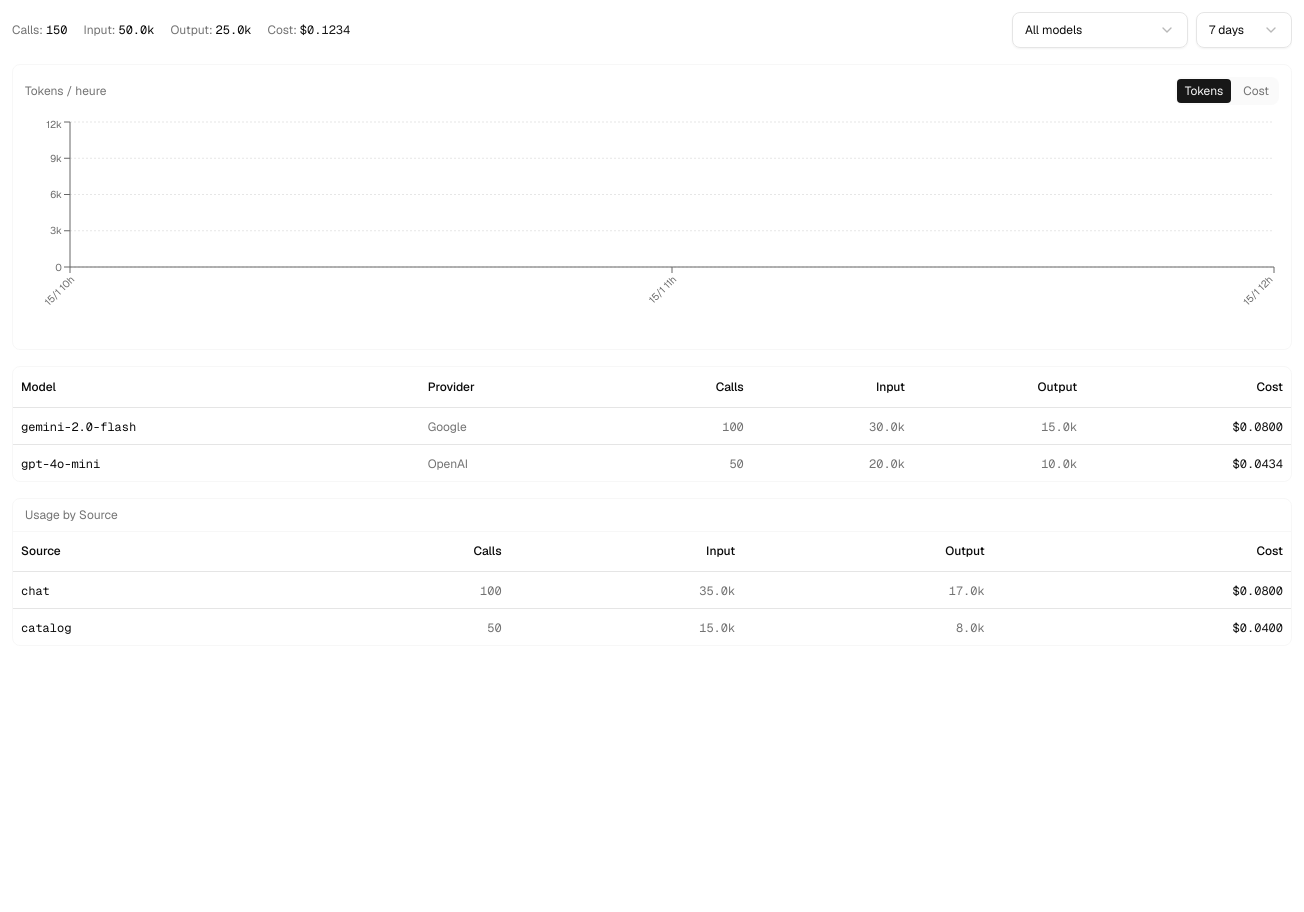
UsageTab › Chart metric toggle › should switch back to tokens view when clicking Tokens button
// Switch to cost first
Click the button "Cost". click: (1256, 91)
box: [1235,79,1277,103]
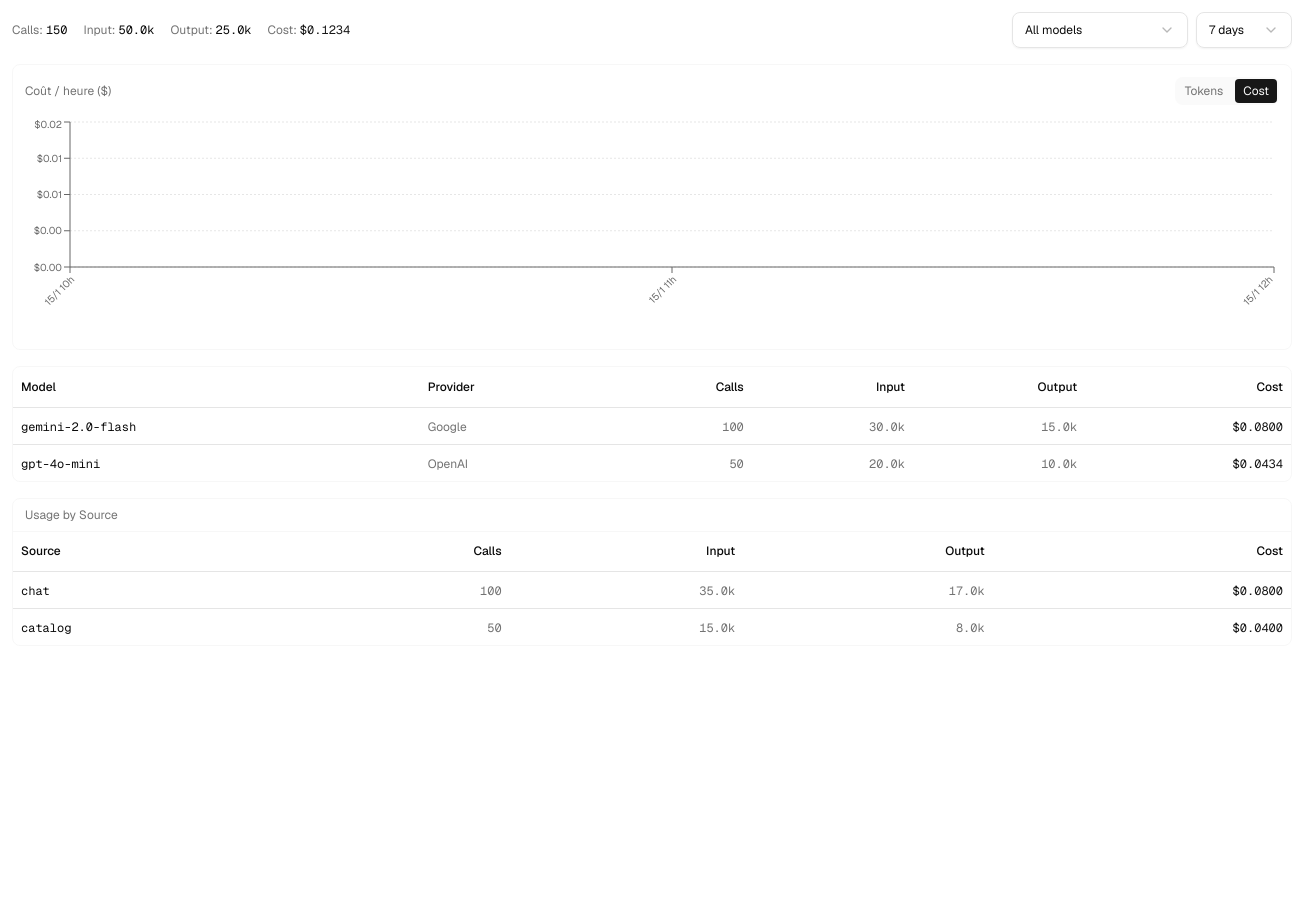
// Then back to tokens
Click the button "Tokens". click: (1204, 91)
box: [1177,79,1231,103]
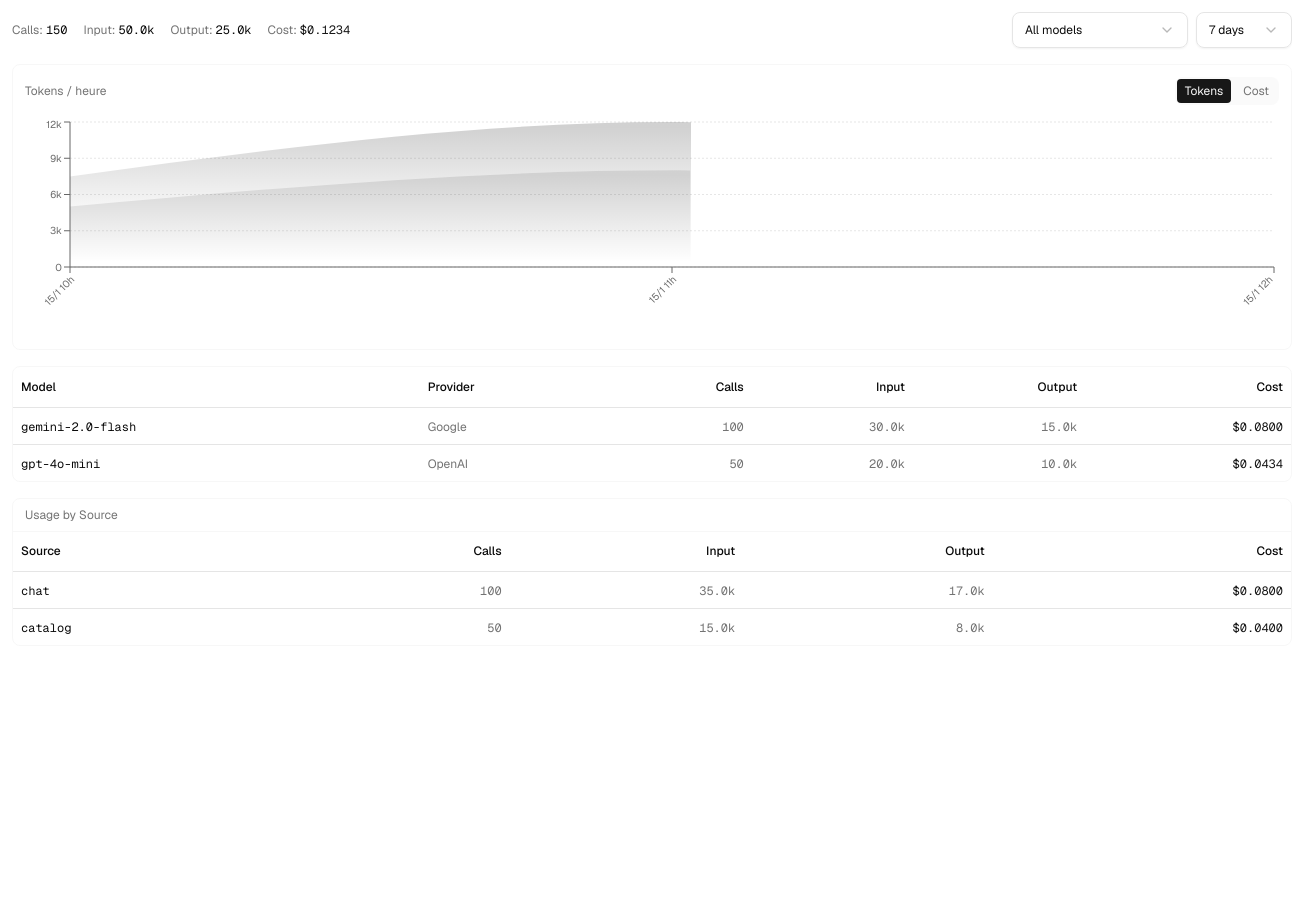
Check: the text "Tokens / heure" is shown, box [25,83,106,99]
